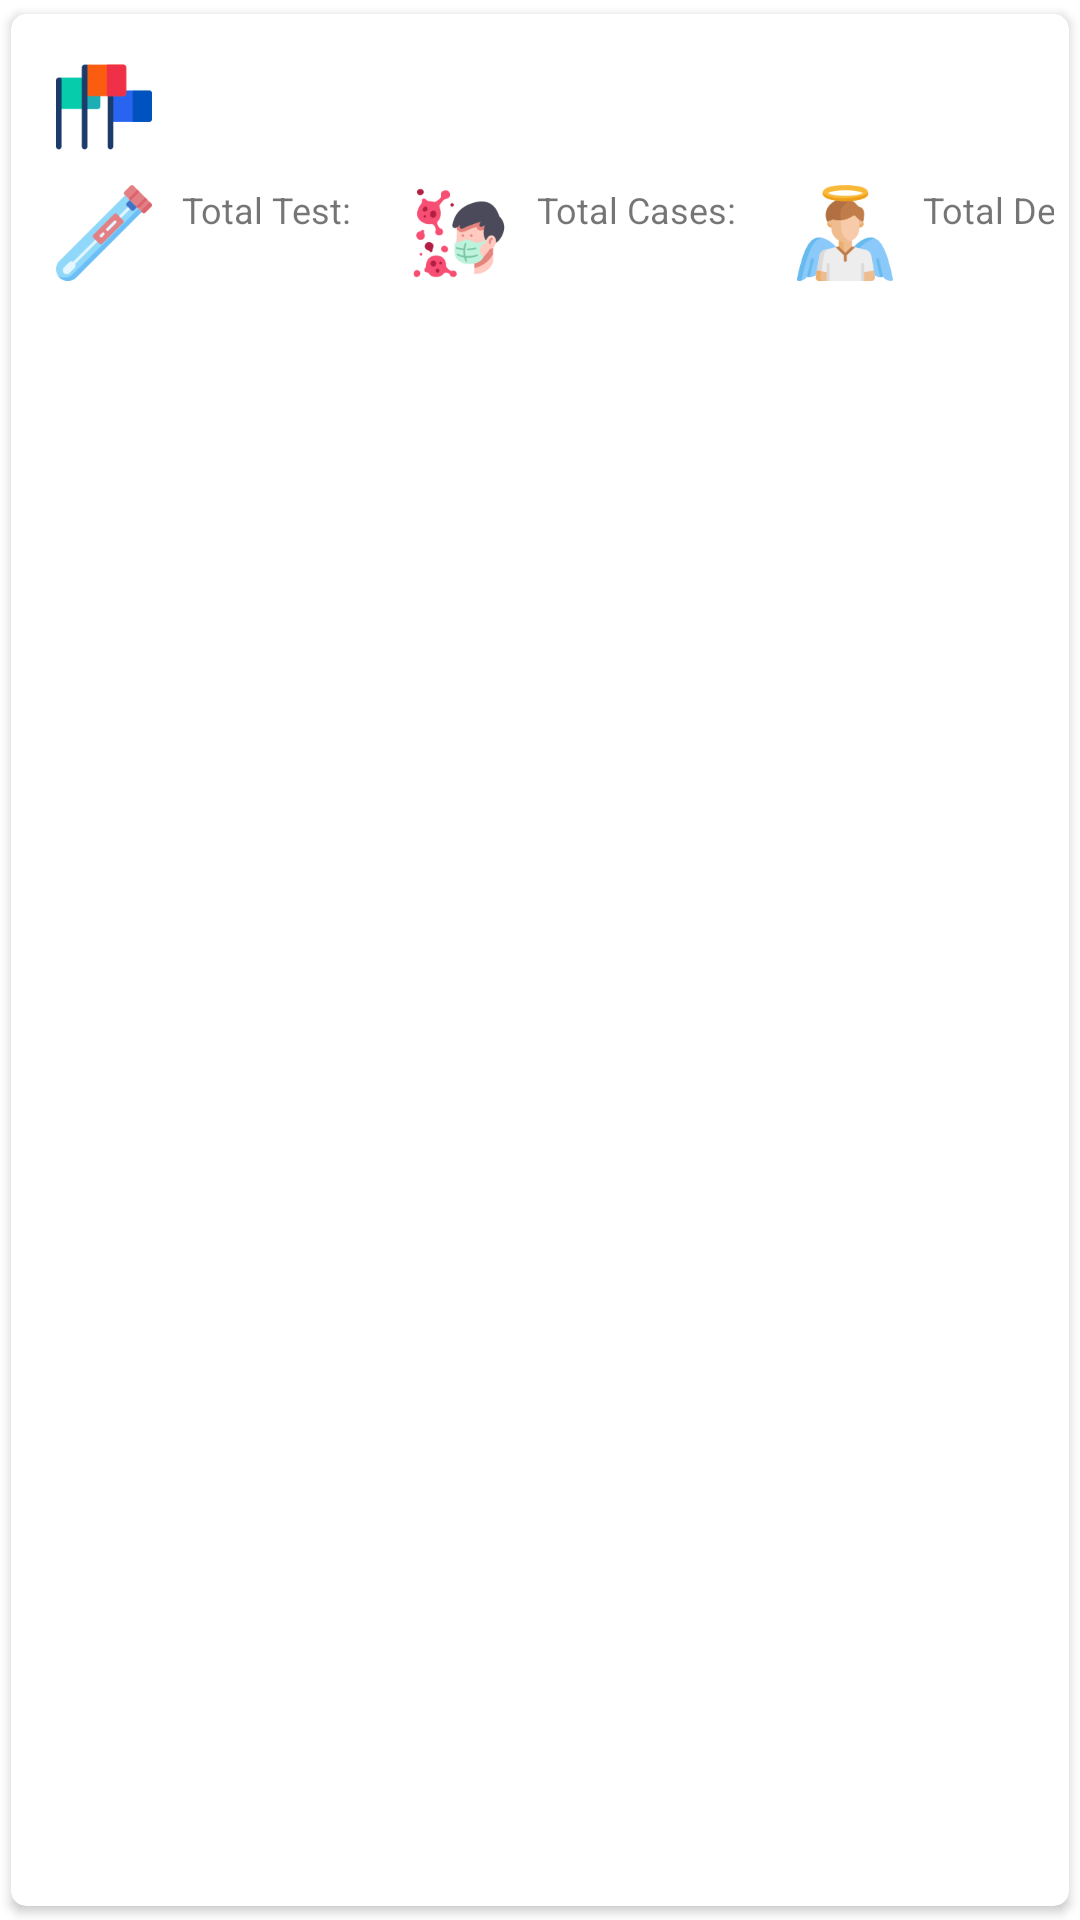

Named icons in this screenshot (1080w x 1920h) and their bounding boxes, {"left": x1, "top": y1, "right": x2, "bottom": y2}:
angel: {"left": 797, "top": 185, "right": 893, "bottom": 281}
flags: {"left": 56, "top": 64, "right": 152, "bottom": 150}
testtube: {"left": 56, "top": 185, "right": 152, "bottom": 281}
